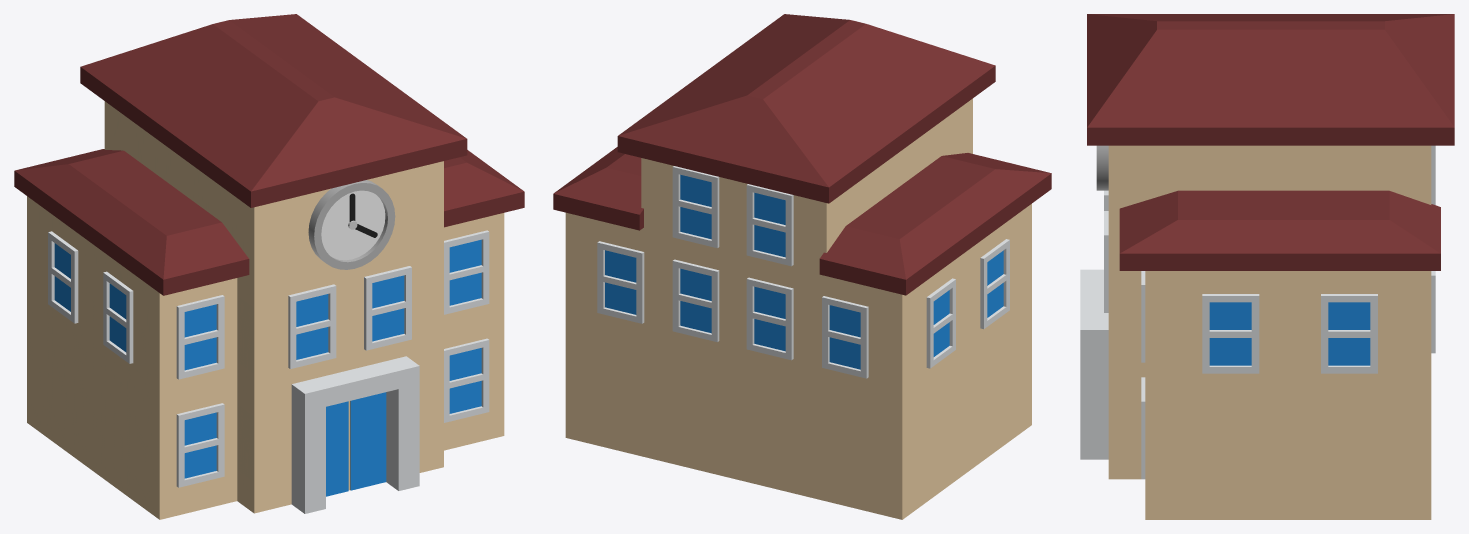
File: school.gltf
The picture shows the model from 3 angles, left to right: view 1: azimuth 30°, elevation 25°; view 2: azimuth 150°, elevation 25°; view 3: azimuth 270°, elevation 25°; orthographic projection. The views are drawn at different scales.
Visible parts, largest first — view 1: Cube.494; view 2: Cube.494; view 3: Cube.494.
Boxes of the visible parts, x1,y1,x2,y2 form: Cube.494: (14, 14, 524, 519); Cube.494: (553, 14, 1051, 519); Cube.494: (1080, 14, 1454, 519).
Size of the model in its own units: 2.02 by 2.01 by 1.69.
Materials: 1 (1 with a texture image).
